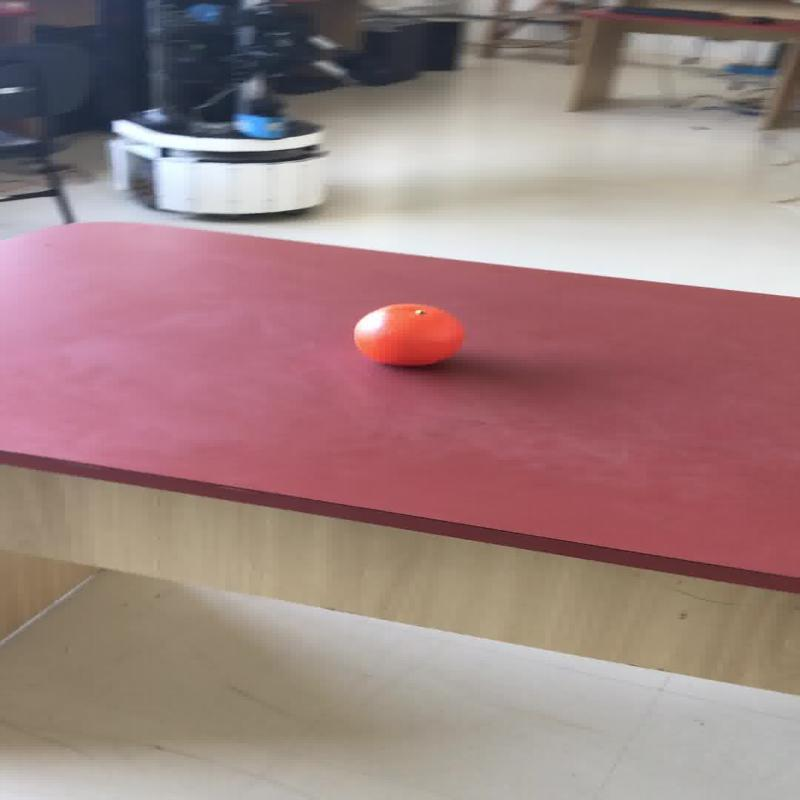orange: (351, 302, 464, 367)
